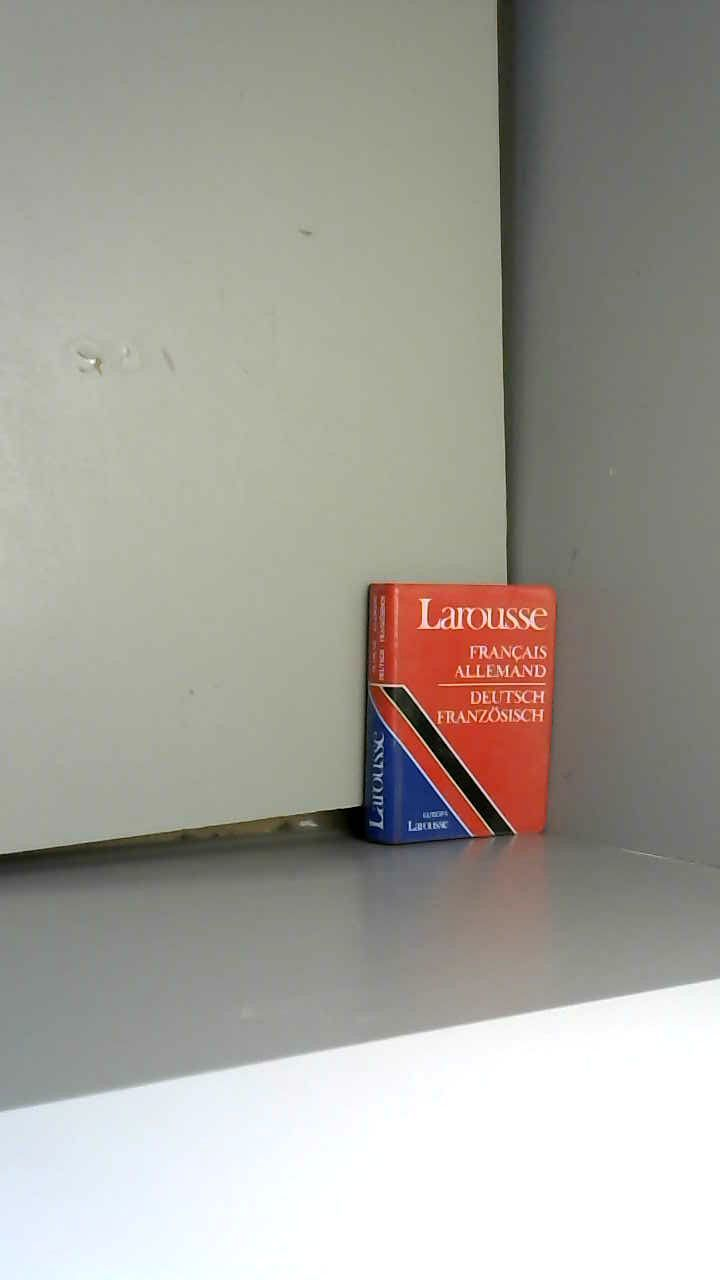book: (329, 546, 592, 883)
